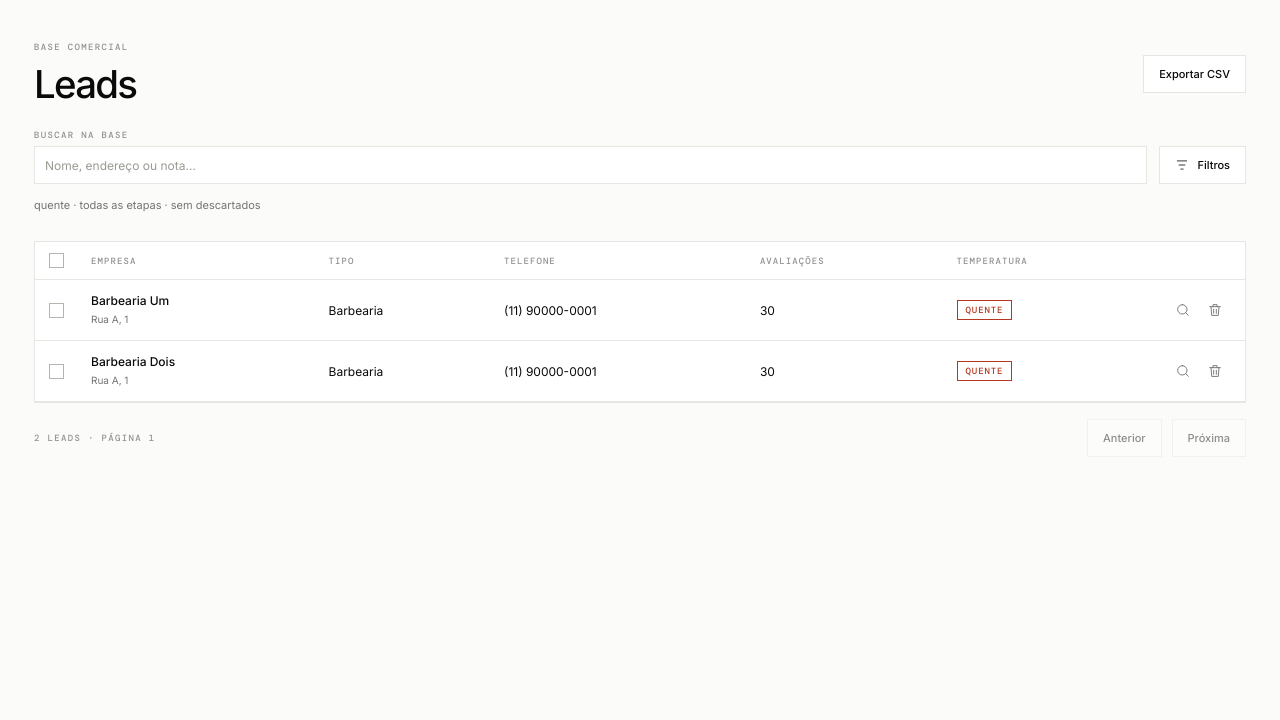
LeadsView — exclusão de leads › a lixeira da linha confirma nomeando o lead
This screenshot has width=1280, height=720.
Expected: the text "Barbearia Um" is shown, [91,293,169,308]
Click the button named "Apagar Barbearia Dois": {"x": 1215, "y": 371} [1199,355,1231,387]
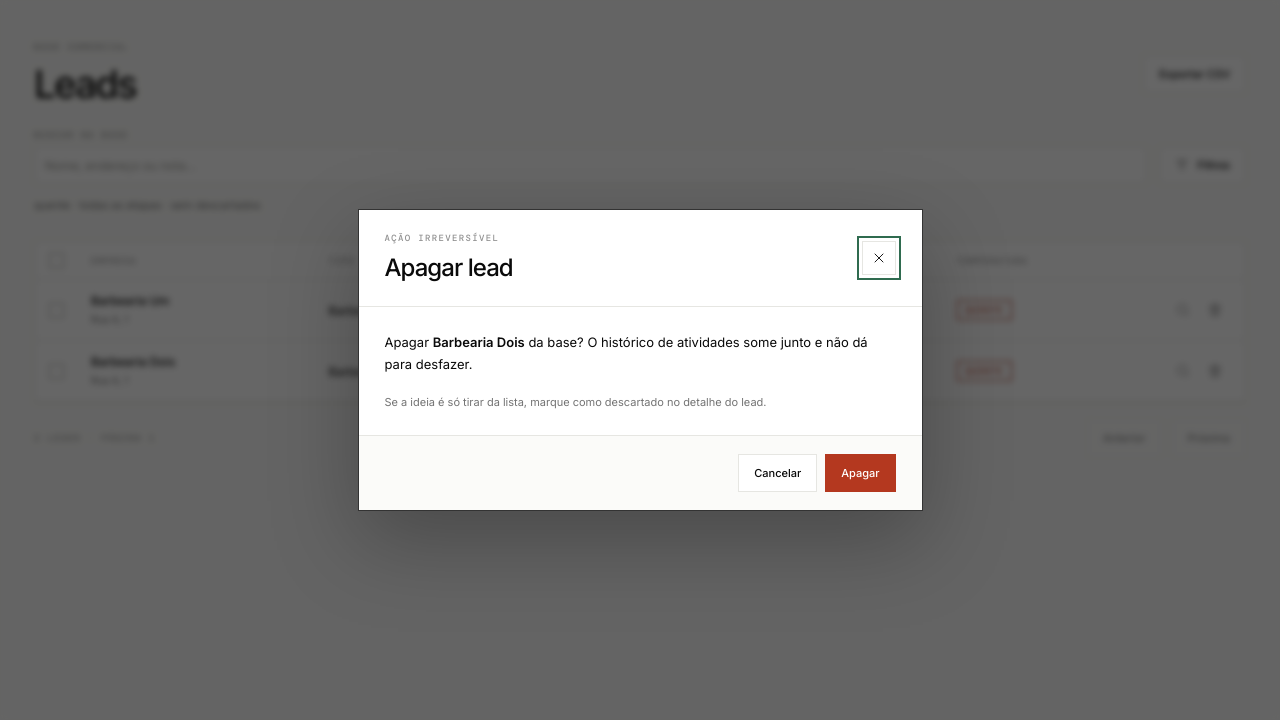
Now the heading "Apagar lead" is shown, box [384,253,513,282]
Now the dialog shows "Barbearia Dois", box [433,334,525,350]
